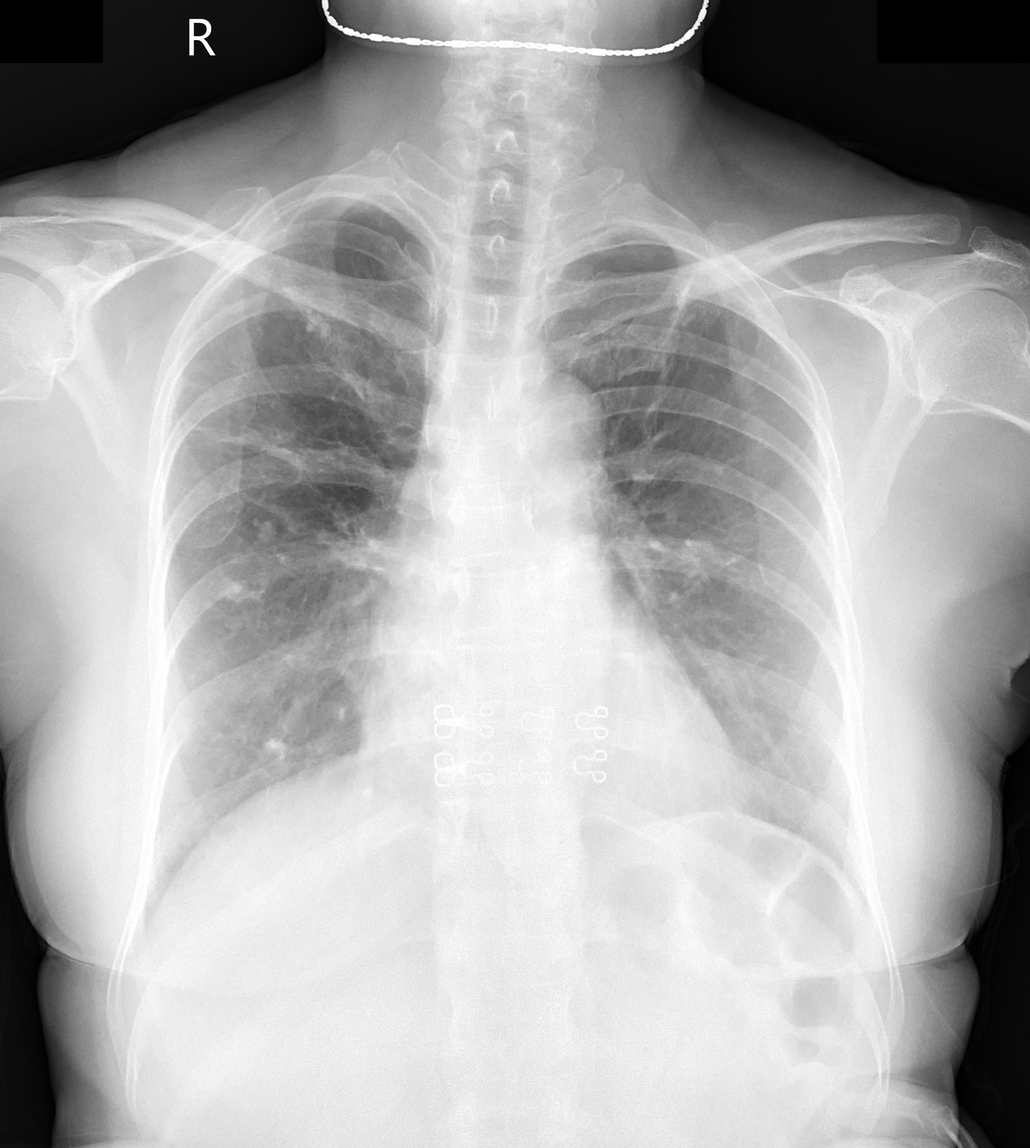Pulmonary fibrosis: (274, 277, 366, 395), (177, 410, 309, 475), (187, 516, 275, 608), (646, 266, 700, 366), (261, 738, 290, 756)
